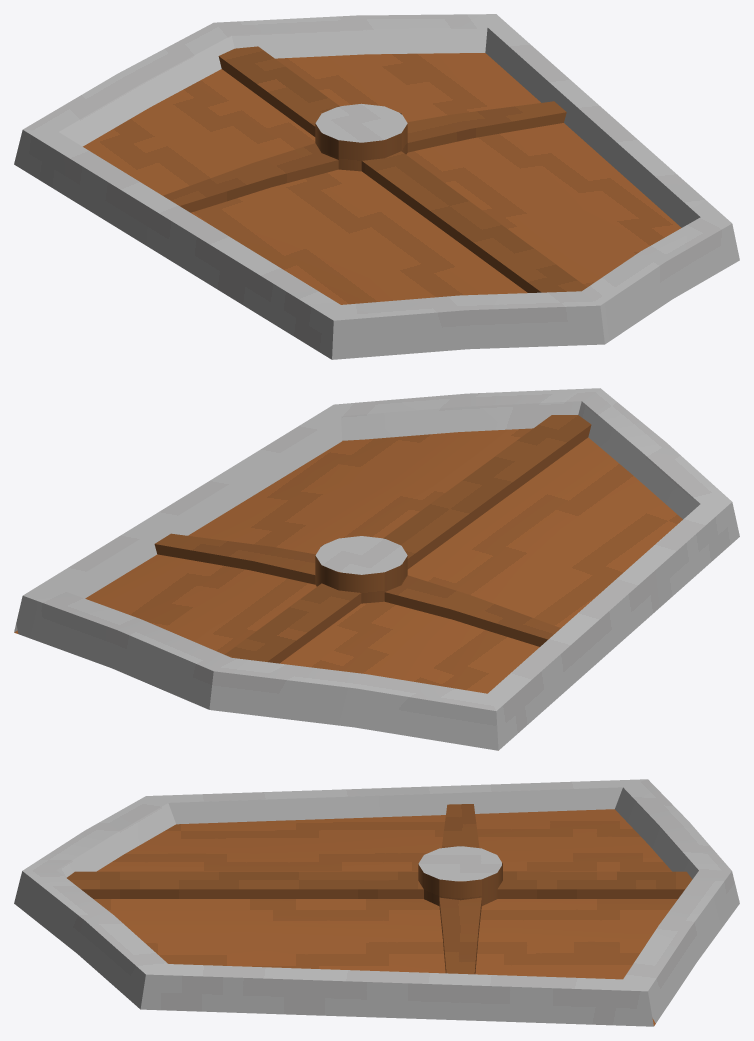
Rendered from Schild.fbx.
The picture shows the model from 3 angles, top to bottom: view 1: azimuth 30°, elevation 25°; view 2: azimuth 150°, elevation 25°; view 3: azimuth 270°, elevation 25°; orthographic projection. The views are drawn at different scales.
Parts seen in each view (by area): view 1: Cube; view 2: Cube; view 3: Cube.
Boxes of the visible parts, <box> form: Cube: <box>14,14,739,359</box>; Cube: <box>14,388,739,750</box>; Cube: <box>14,779,739,1026</box>.
Size of the model in its own units: 0.4146 by 0.0484 by 0.5862.
